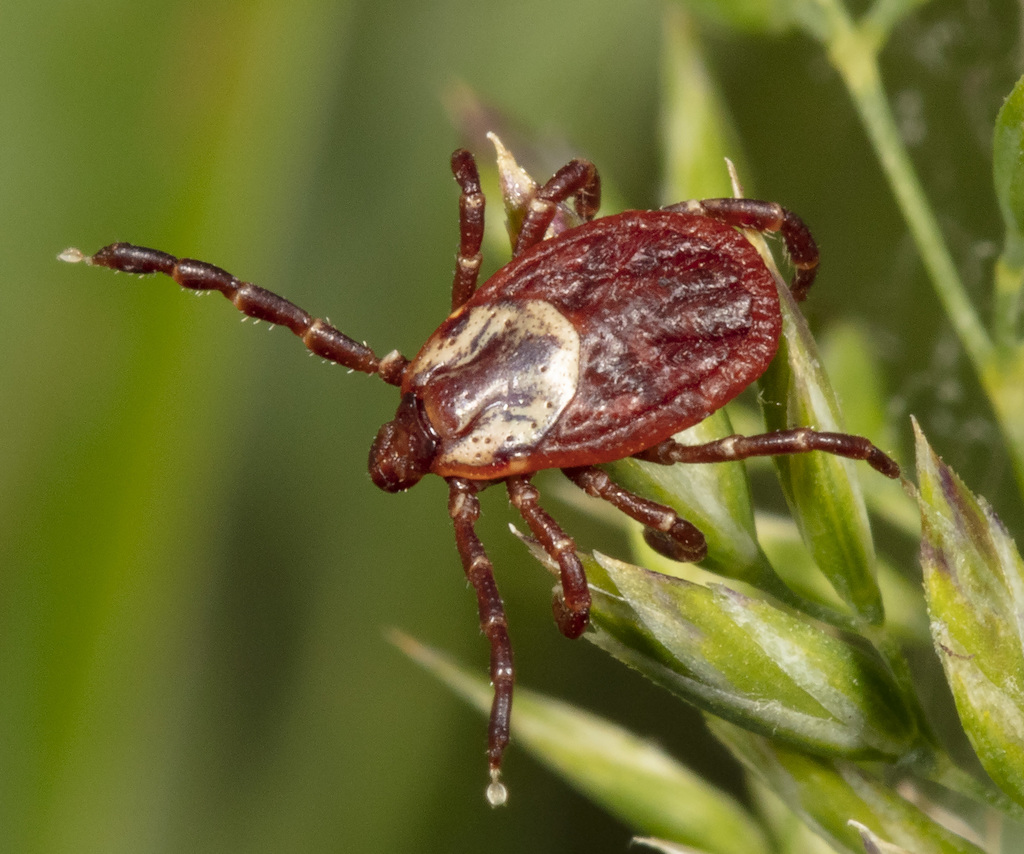garrapata: (52, 124, 920, 813)
